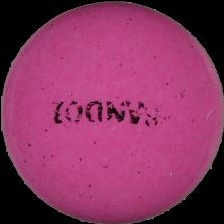66336-402: (0, 0, 224, 224)
